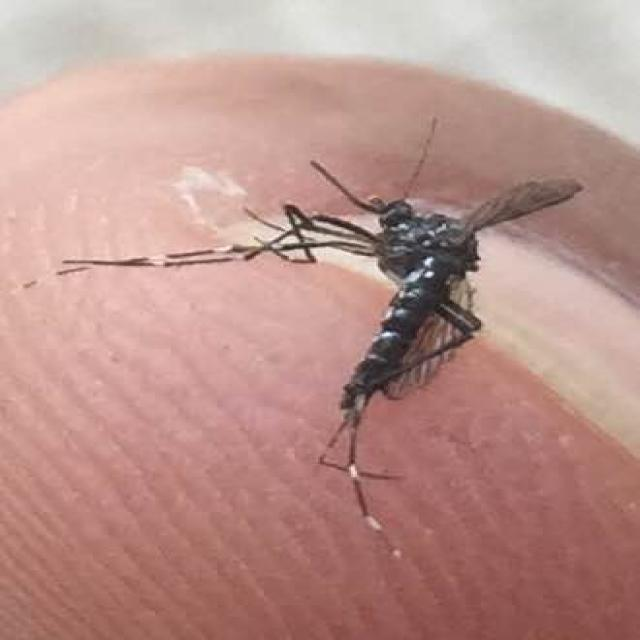albopictus: (204, 102, 582, 558)
